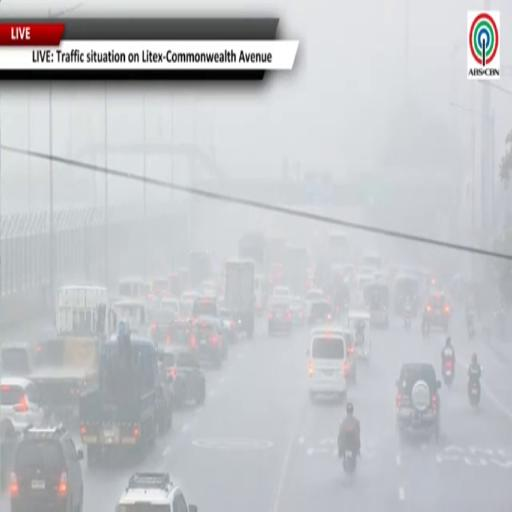car: (11, 425, 83, 511), (396, 363, 440, 440), (116, 473, 197, 511), (308, 329, 347, 399), (159, 347, 205, 406), (312, 325, 357, 383), (0, 377, 44, 431), (195, 317, 225, 367), (157, 362, 175, 435), (0, 343, 36, 377), (165, 319, 197, 356), (424, 293, 450, 331), (151, 310, 177, 344), (268, 299, 291, 335), (308, 299, 333, 325), (219, 309, 238, 343), (305, 288, 325, 317), (192, 296, 218, 317), (180, 291, 199, 315), (290, 296, 305, 325), (159, 297, 179, 316), (152, 277, 170, 298), (306, 288, 325, 302), (272, 286, 292, 299), (180, 300, 193, 319), (201, 281, 217, 296)
motorcycle: (343, 448, 356, 474), (468, 379, 480, 407), (442, 358, 454, 385), (466, 317, 475, 339), (422, 317, 430, 337), (405, 307, 411, 329), (405, 314, 411, 330)
truck: (80, 323, 160, 466), (30, 285, 109, 420), (225, 260, 254, 339), (283, 247, 308, 297), (238, 231, 267, 273), (267, 237, 287, 289), (189, 251, 212, 289), (328, 232, 351, 264)
